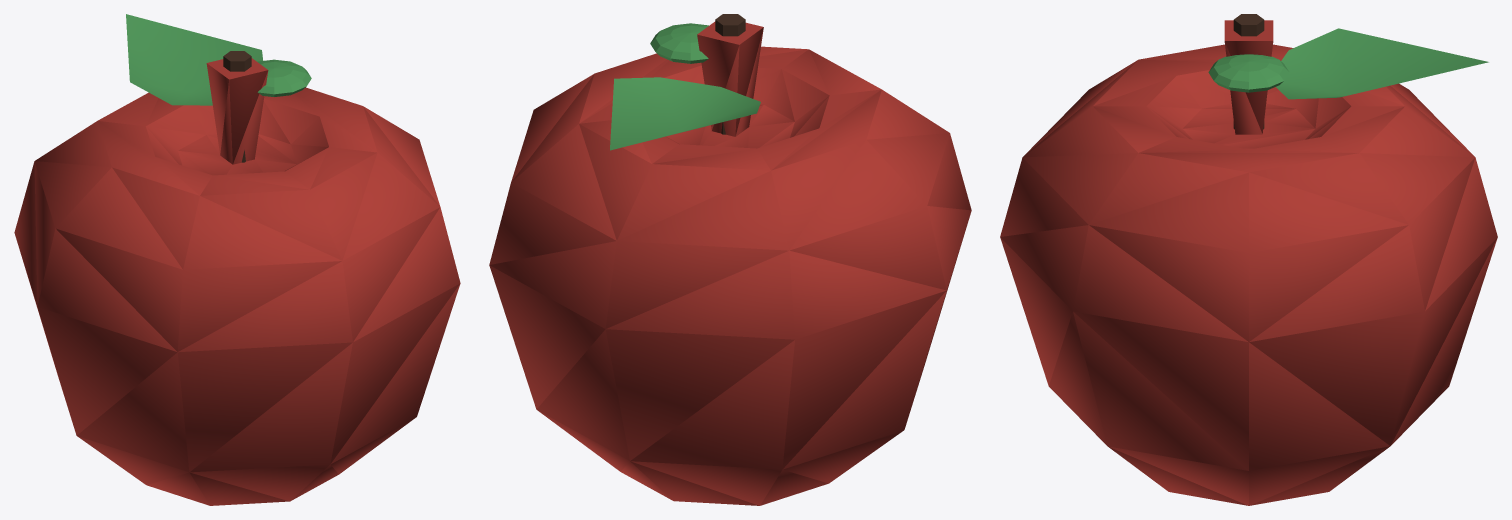
File: apple.glb
The picture shows the model from 3 angles, left to right: view 1: azimuth 30°, elevation 25°; view 2: azimuth 150°, elevation 25°; view 3: azimuth 270°, elevation 25°; orthographic projection. The views are drawn at different scales.
Visible parts, largest first — view 1: apple; view 2: apple; view 3: apple.
Boxes of the visible parts, x1,y1,x2,y2 form: apple: (14, 14, 460, 505); apple: (489, 14, 971, 505); apple: (1000, 14, 1497, 505).
Bounding box in the file's own units: 0.1963 × 0.1908 × 0.1963.
